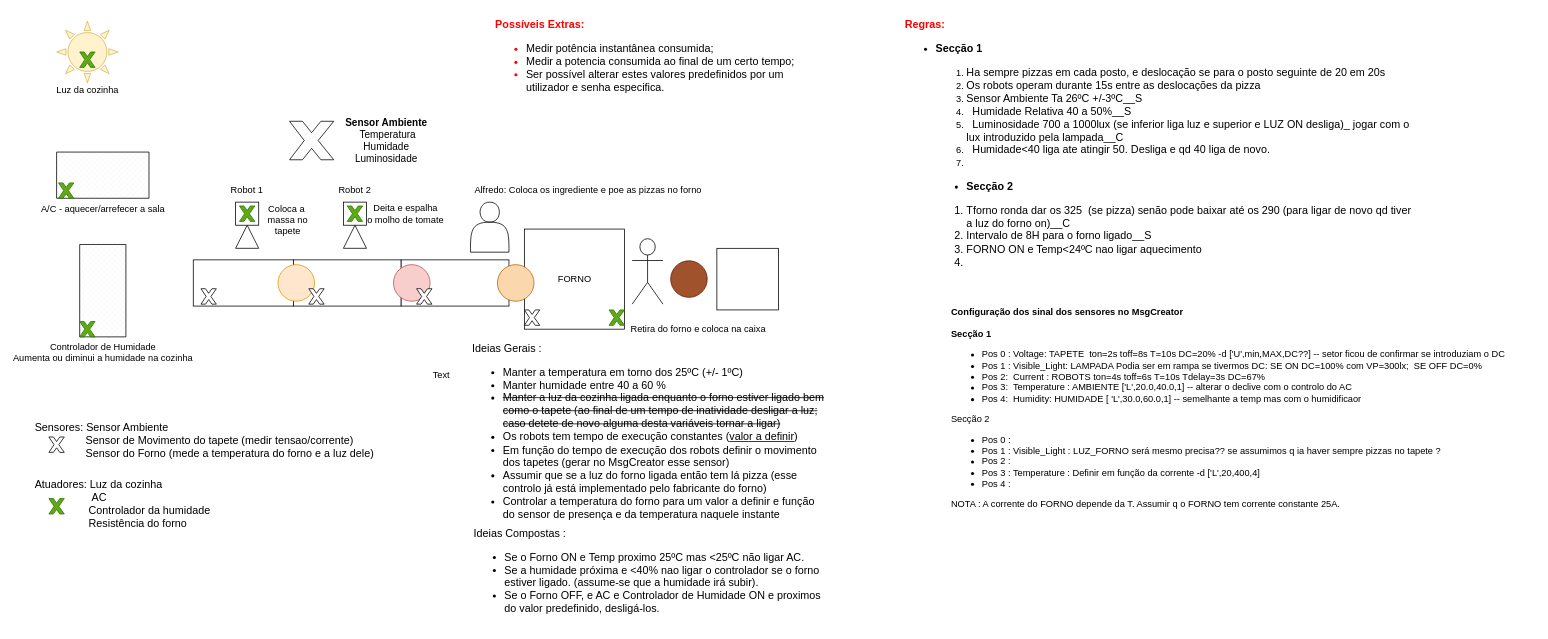
Some shapes in this 1548 by 639 pixel diagram are drawn without their labels. The centre of each missing label's shape, as x and y in pixels:
Caixa da Pizza: (x=747, y=279)
Jeremias: (x=647, y=271)
